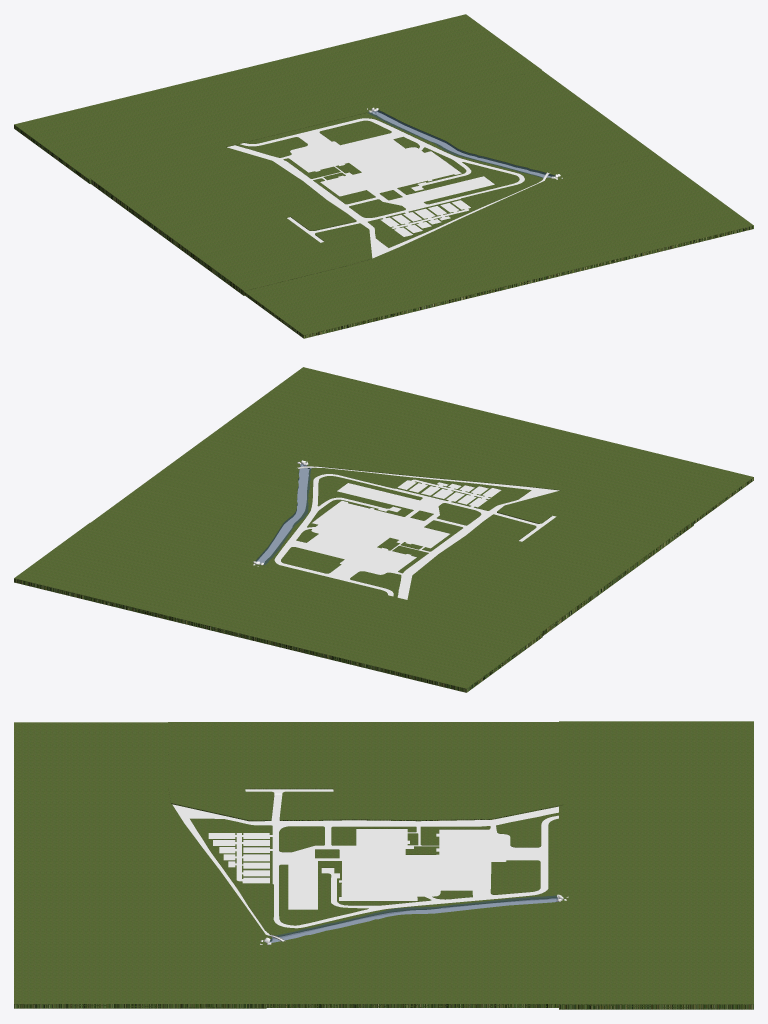
Rendered from CSL-Lengnau_simplified-Ground_023.gltf.
3 views of the same model, one above another, from view 1: azimuth 30°, elevation 25°; view 2: azimuth 150°, elevation 25°; view 3: azimuth 270°, elevation 25° (orthographic). The views are drawn at different scales.
Parts seen in each view (by area): view 1: bolder42:PIV; view 2: bolder42:PIV; view 3: bolder42:PIV.
Boxes of the visible parts, left/top/right/bottom form: bolder42:PIV: left=14, top=14, right=753, bottom=338; bolder42:PIV: left=14, top=367, right=753, bottom=692; bolder42:PIV: left=14, top=721, right=753, bottom=1009.
Bounding box in the file's own units: 375 × 8.25 × 414.
4 materials, 1 textured.
